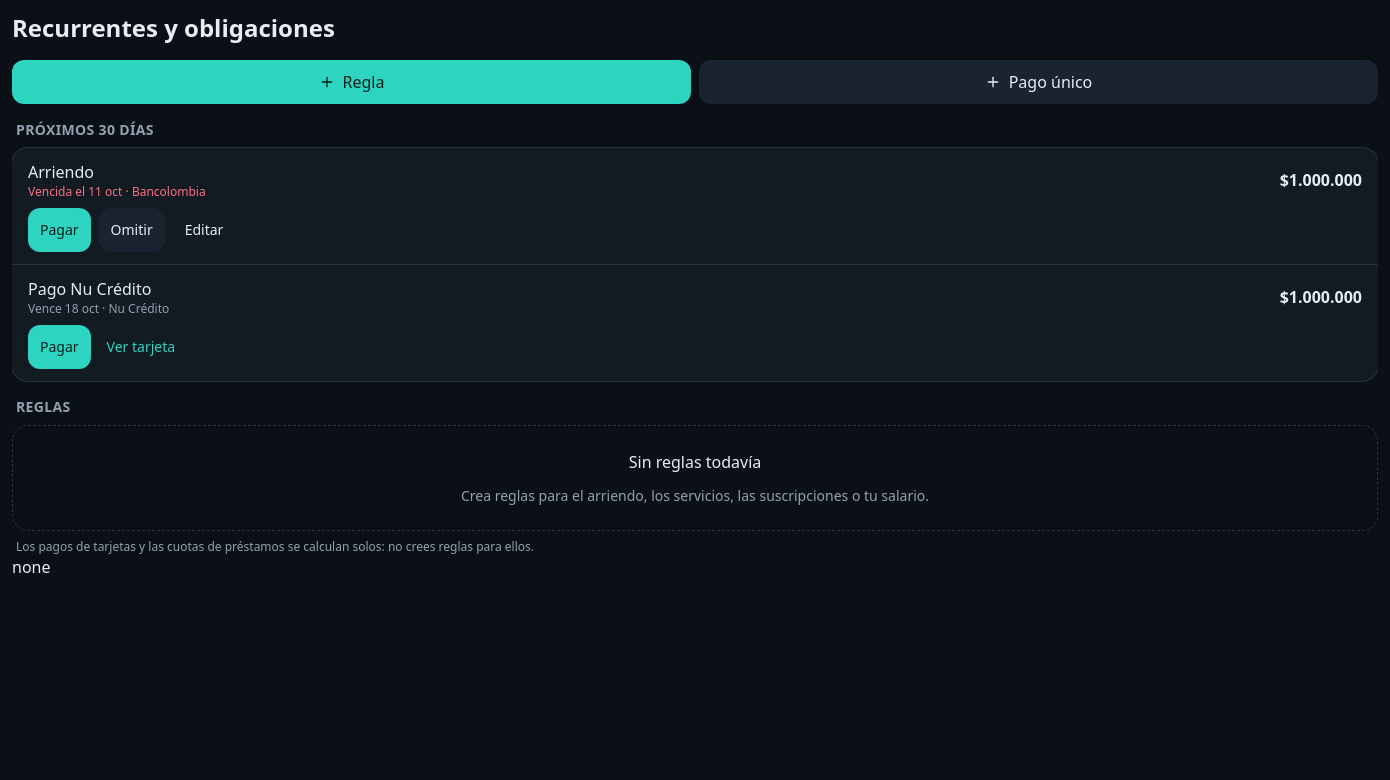
Test case: RecurringPage (spec 8.11) › opens the card payment from a derived due
What coordinates should you click on to do the following:
click the button with aria-label "Pagar Pago Nu Crédito"
I would click on:
 (59, 347)
Its box is left=28, top=325, right=91, bottom=369.
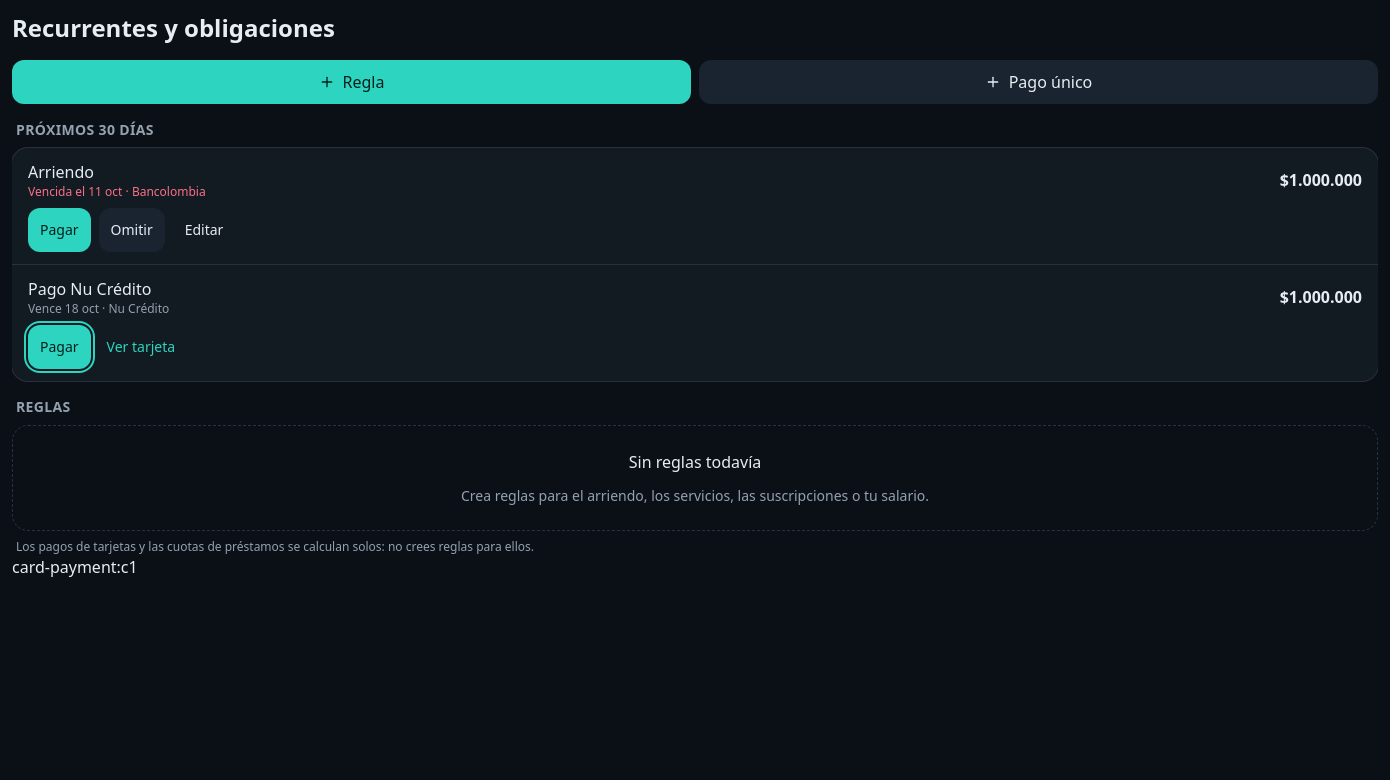
Expected: the text with test id "req" reads "card-payment:c1", left=12, top=556, right=138, bottom=578
